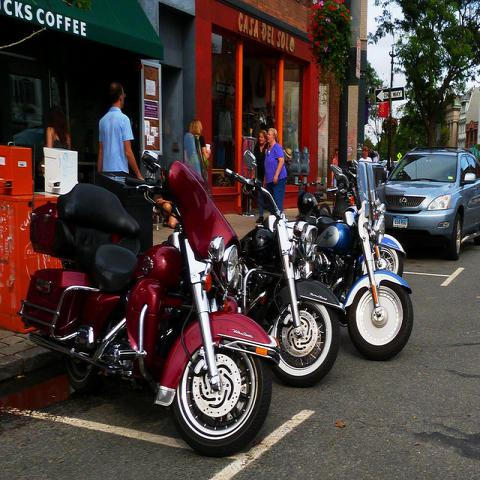car: (378, 149, 478, 261)
motorcycle: (19, 138, 283, 453), (227, 144, 347, 379), (297, 160, 419, 361), (317, 163, 354, 211)
